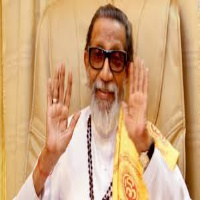ring: (52, 66, 59, 109)
